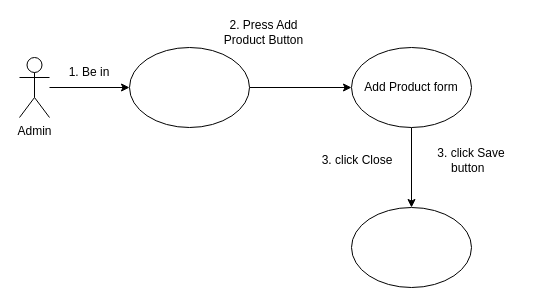
Image size: 533x305. Some labels were removed from this diagram. Here are the shapes that lost their labels. From the top down, the centre of each, then its label:
the point at 189,87: Products
the point at 411,247: Products List
